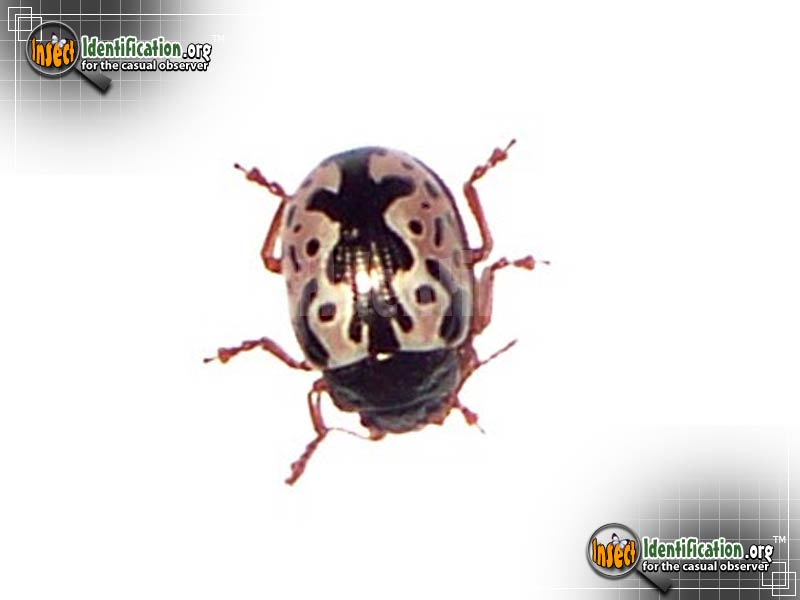Calligrapha Beetle: (182, 107, 540, 462)
